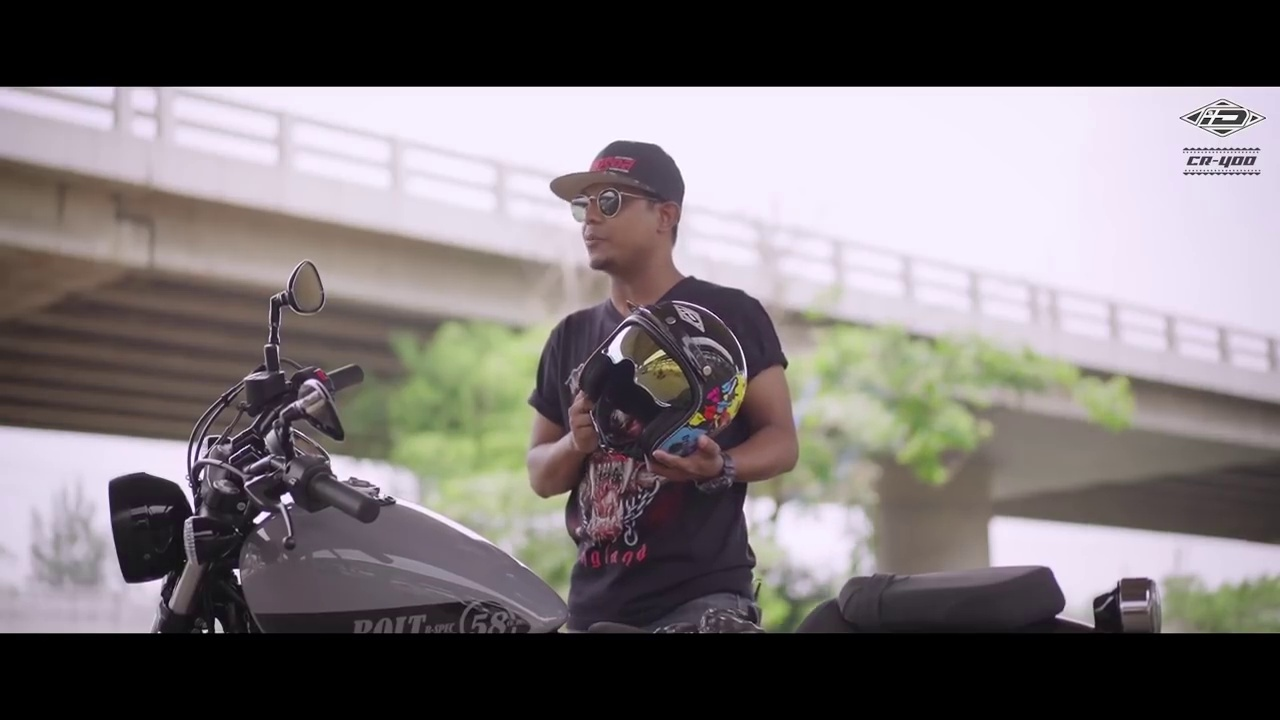helmet: (566, 296, 745, 462)
